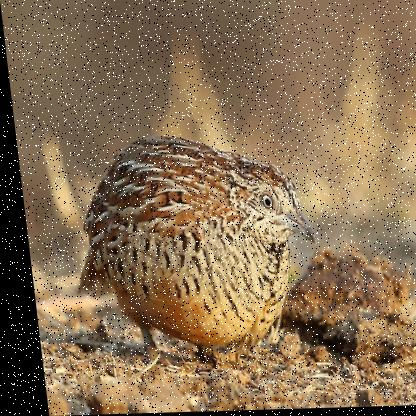Burung: (56, 134, 321, 371)
